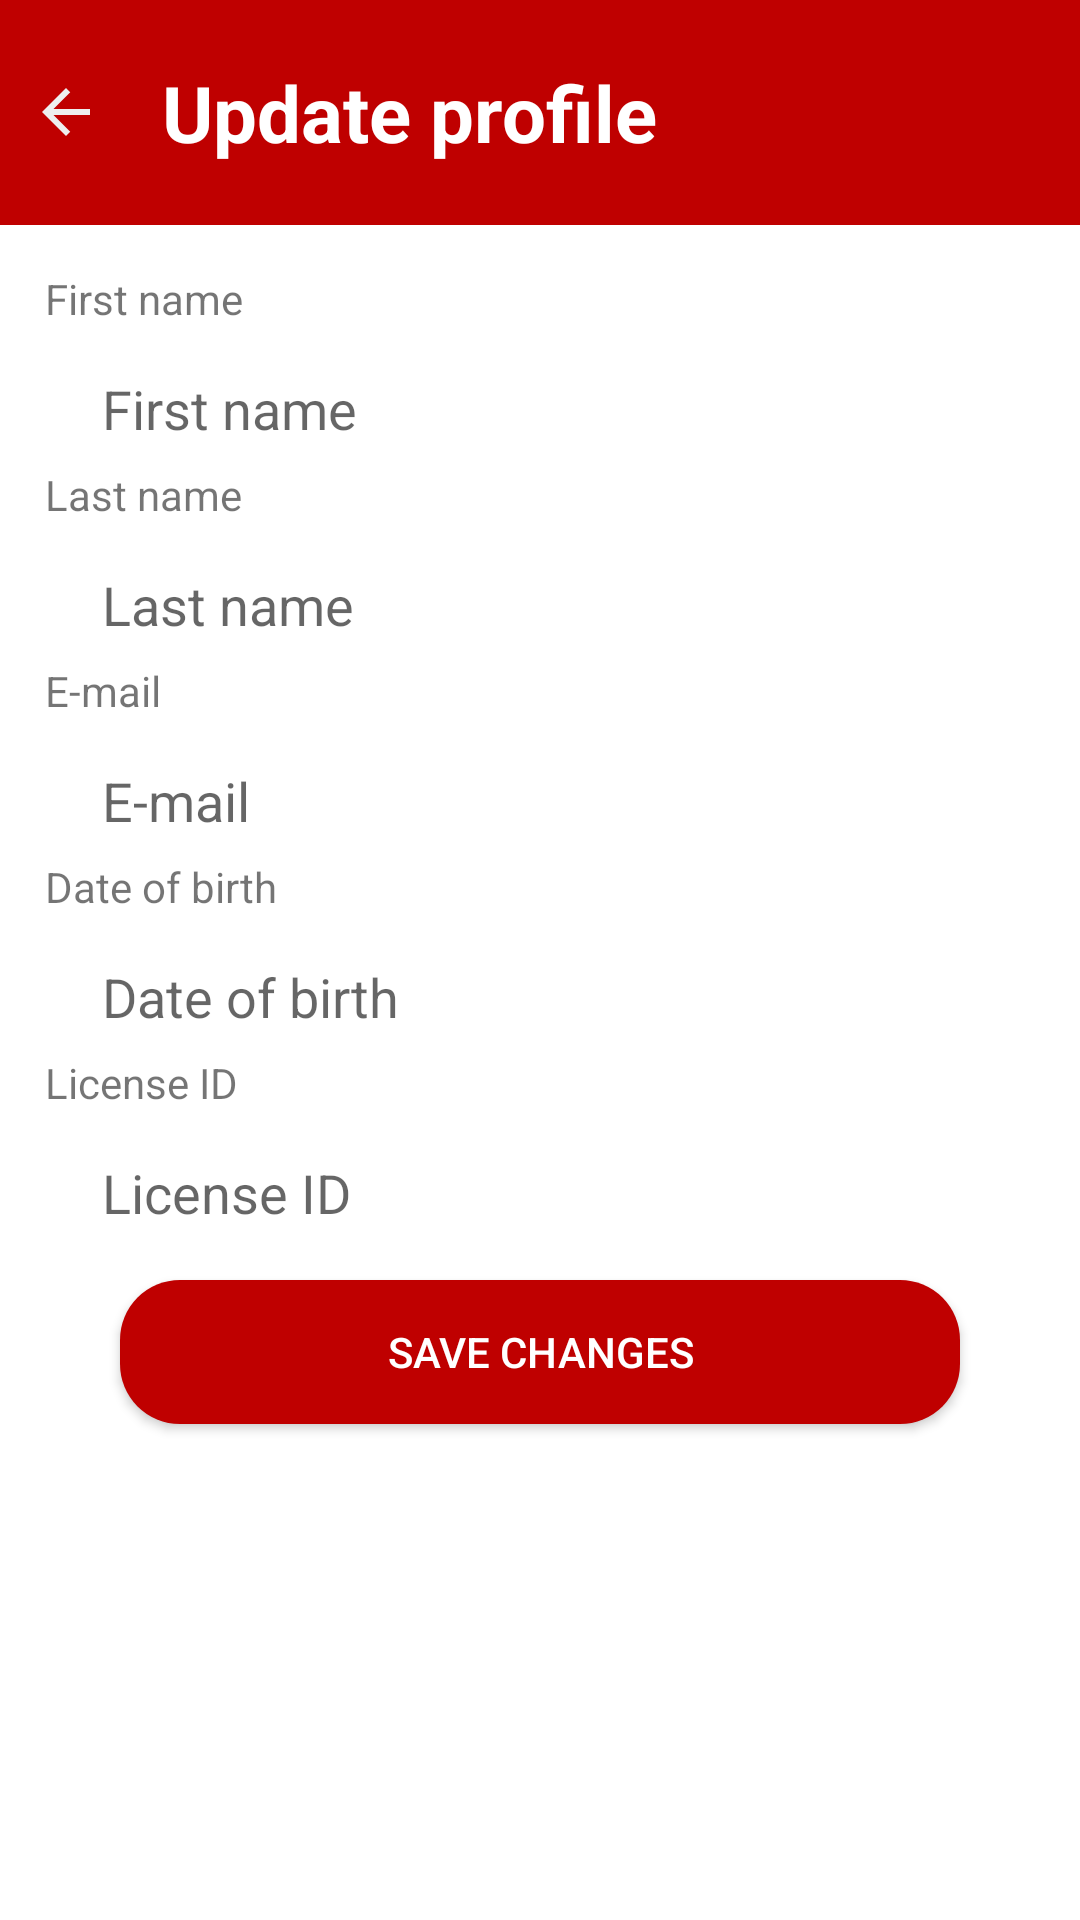

Icons on this 1080×1920 Android screen, each with the point to tap as (x=x, y=y):
arrow back: (x=66, y=112)
